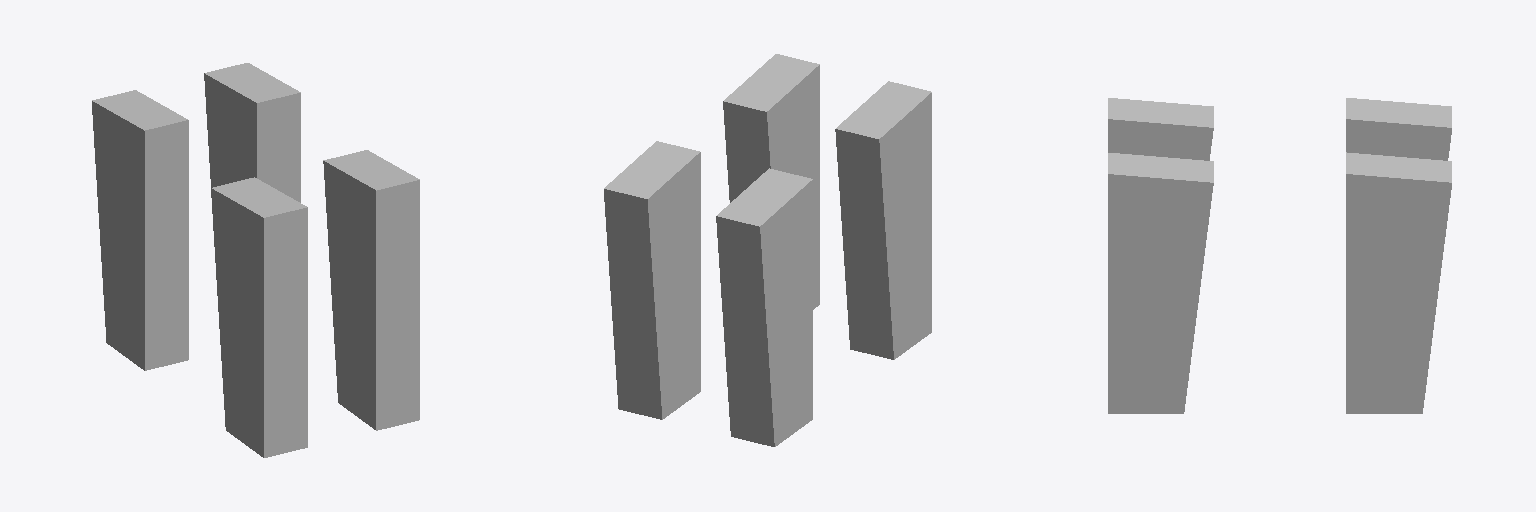
The model's file is horse-03-legs.obj.
The picture shows the model from 3 angles: view 1: azimuth 30°, elevation 25°; view 2: azimuth 150°, elevation 25°; view 3: azimuth 270°, elevation 25°; orthographic projection.
Visible parts, largest first — view 1: Plane.001_Plane.002, Plane.002, Plane.007_Plane.002, Plane.006_Plane.002; view 2: Plane.006_Plane.002, Plane.001_Plane.002, Plane.002, Plane.007_Plane.002; view 3: Plane.006_Plane.002, Plane.007_Plane.002, Plane.001_Plane.002, Plane.002.
Boxes of the visible parts, x1=… form: Plane.001_Plane.002: x1=92, y1=90, x2=188, y2=370; Plane.002: x1=211, y1=177, x2=307, y2=457; Plane.007_Plane.002: x1=323, y1=150, x2=419, y2=430; Plane.006_Plane.002: x1=204, y1=63, x2=300, y2=202; Plane.006_Plane.002: x1=604, y1=141, x2=700, y2=419; Plane.001_Plane.002: x1=716, y1=168, x2=812, y2=446; Plane.002: x1=835, y1=81, x2=931, y2=359; Plane.007_Plane.002: x1=723, y1=54, x2=819, y2=309; Plane.006_Plane.002: x1=1346, y1=152, x2=1451, y2=413; Plane.007_Plane.002: x1=1108, y1=153, x2=1213, y2=413; Plane.001_Plane.002: x1=1346, y1=98, x2=1451, y2=160; Plane.002: x1=1108, y1=98, x2=1213, y2=160.
Bounding box in the file's own units: 0.635 × 0.933 × 1.21.